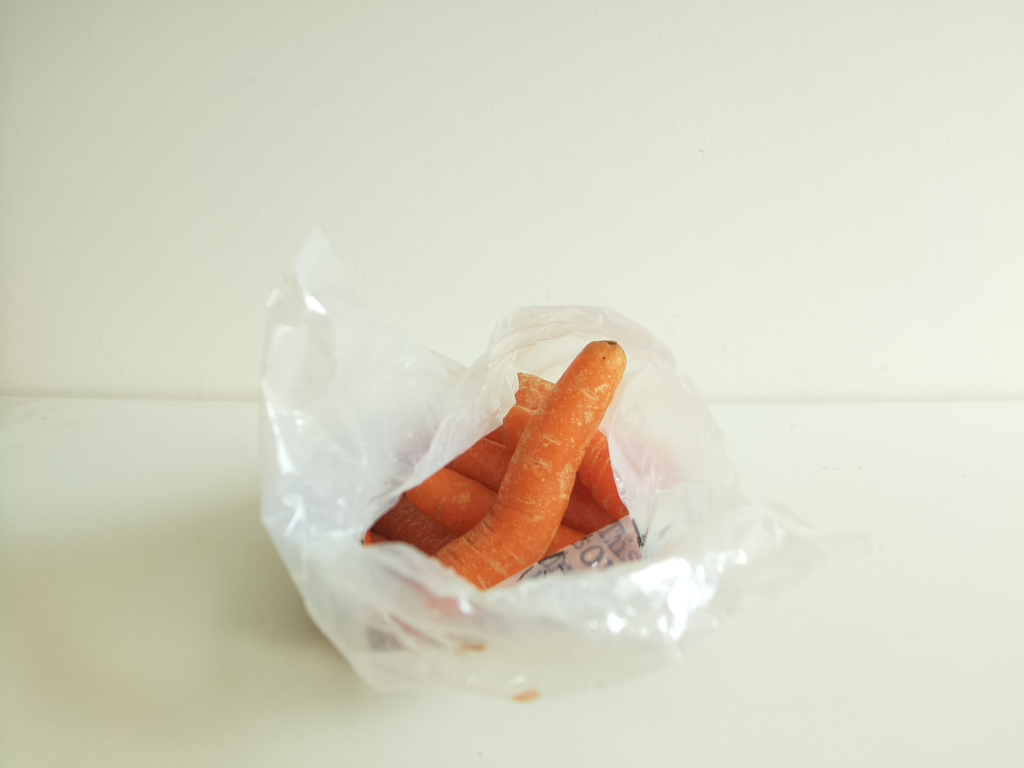carrot: (361, 335, 633, 591)
